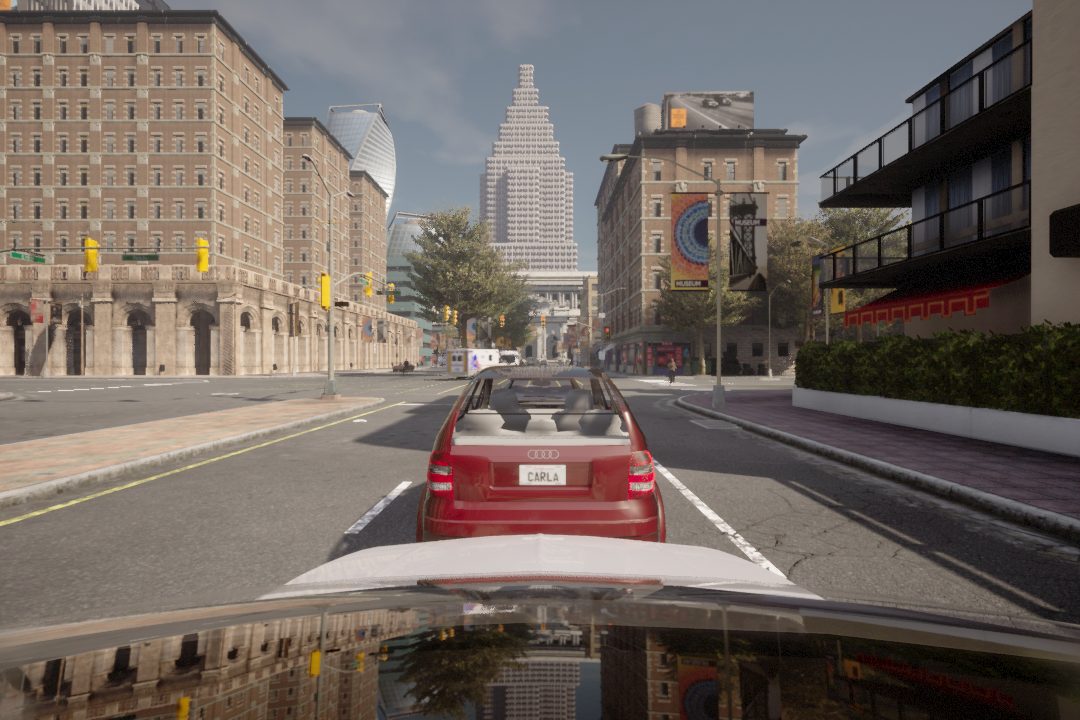TrafficLight: (604, 326, 613, 341), (539, 316, 547, 331), (498, 314, 505, 327)
